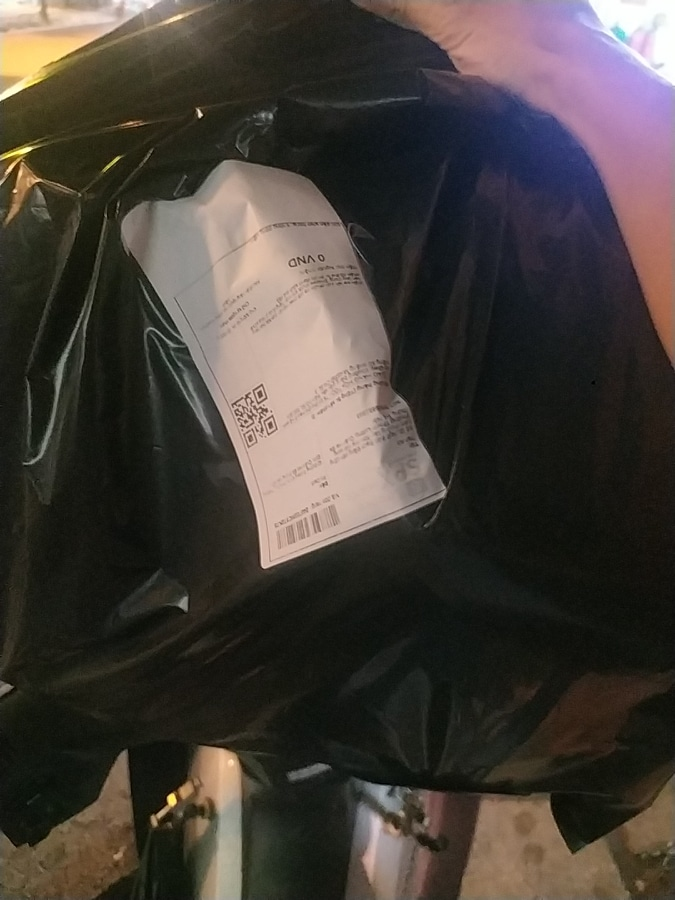pod: (110, 151, 574, 582)
